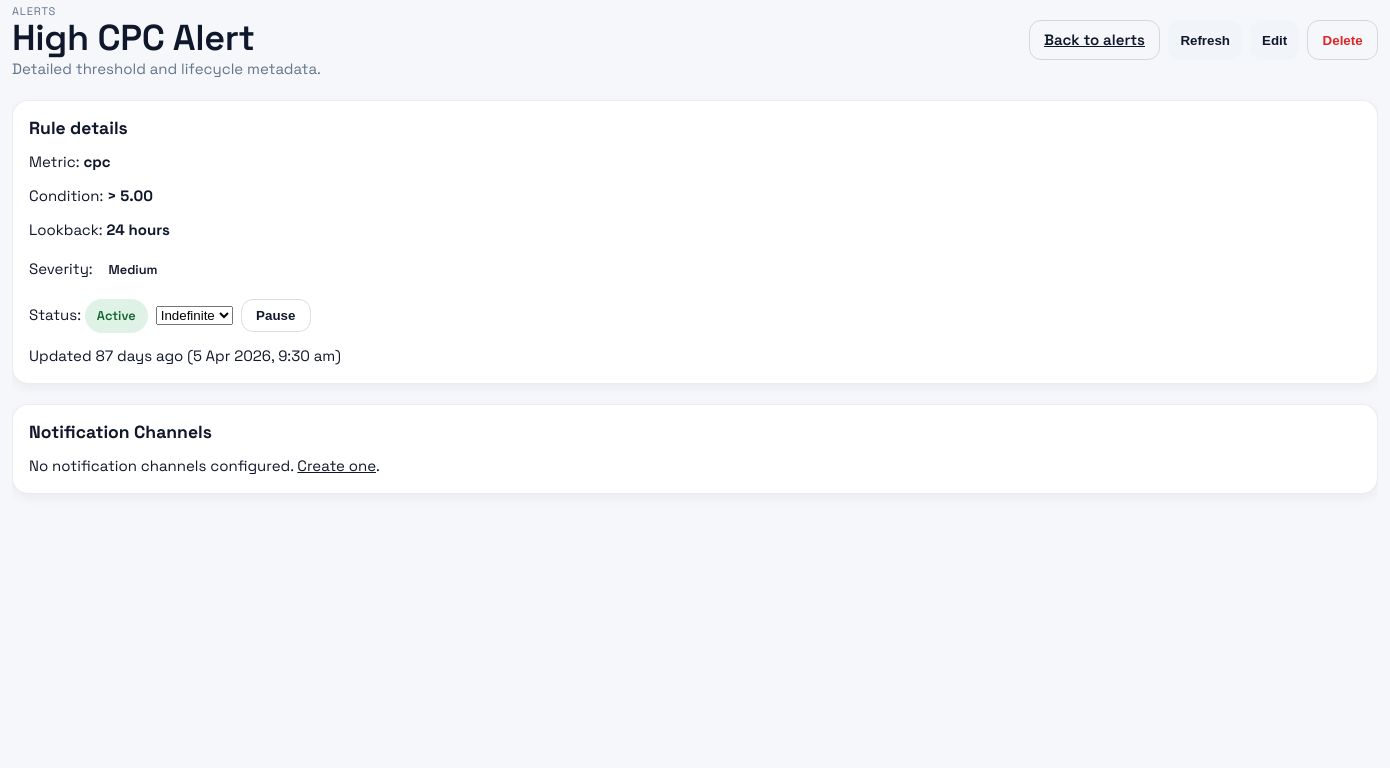
Test case: AlertDetailPage › Cancel in edit form discards changes and does not mutate alert state
This screenshot has width=1390, height=768.
Expected: the heading "High CPC Alert" is shown, [12,15,255,61]
Click the button "Edit" at [1275, 40], box [1250,20,1299,60]
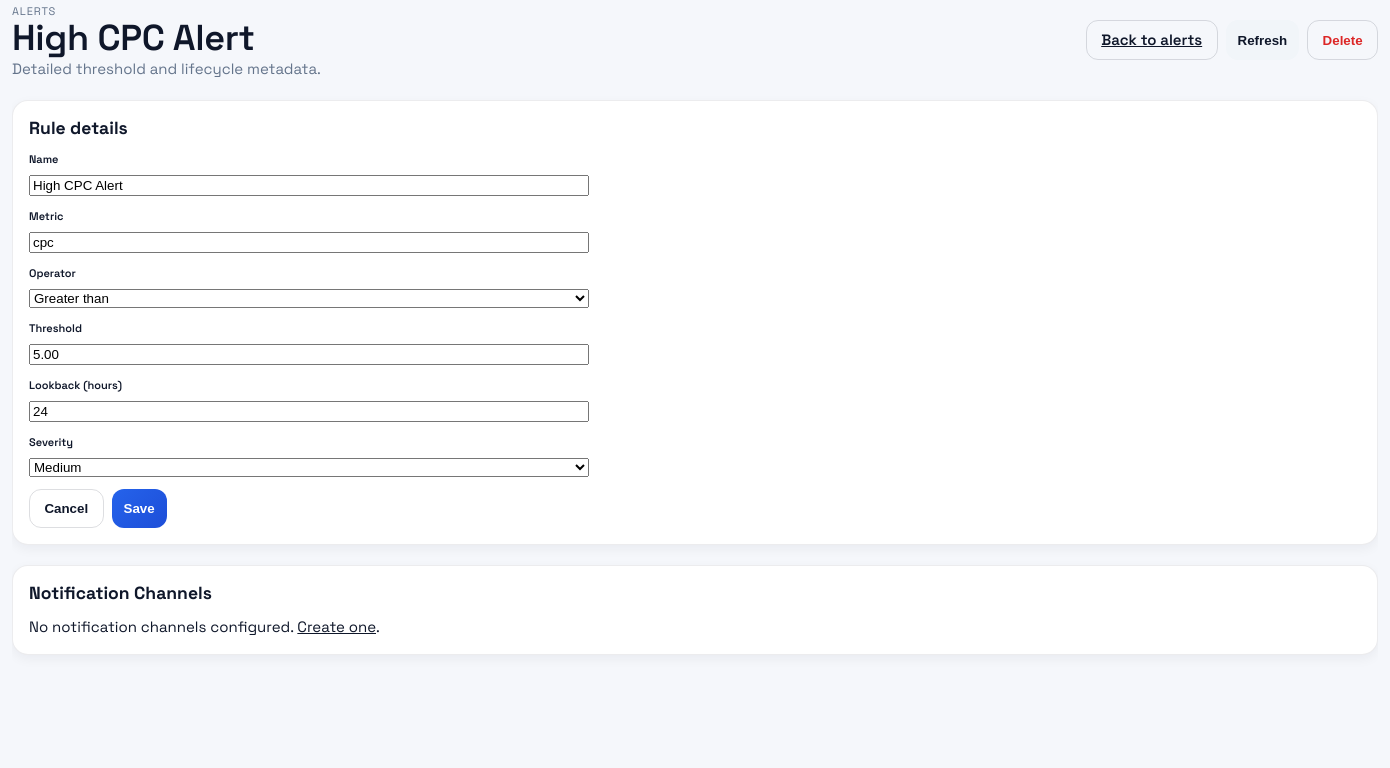
Replace the text in the field labelled "Name" with "Renamed Alert" at [309, 186], box [29,175,589,196]
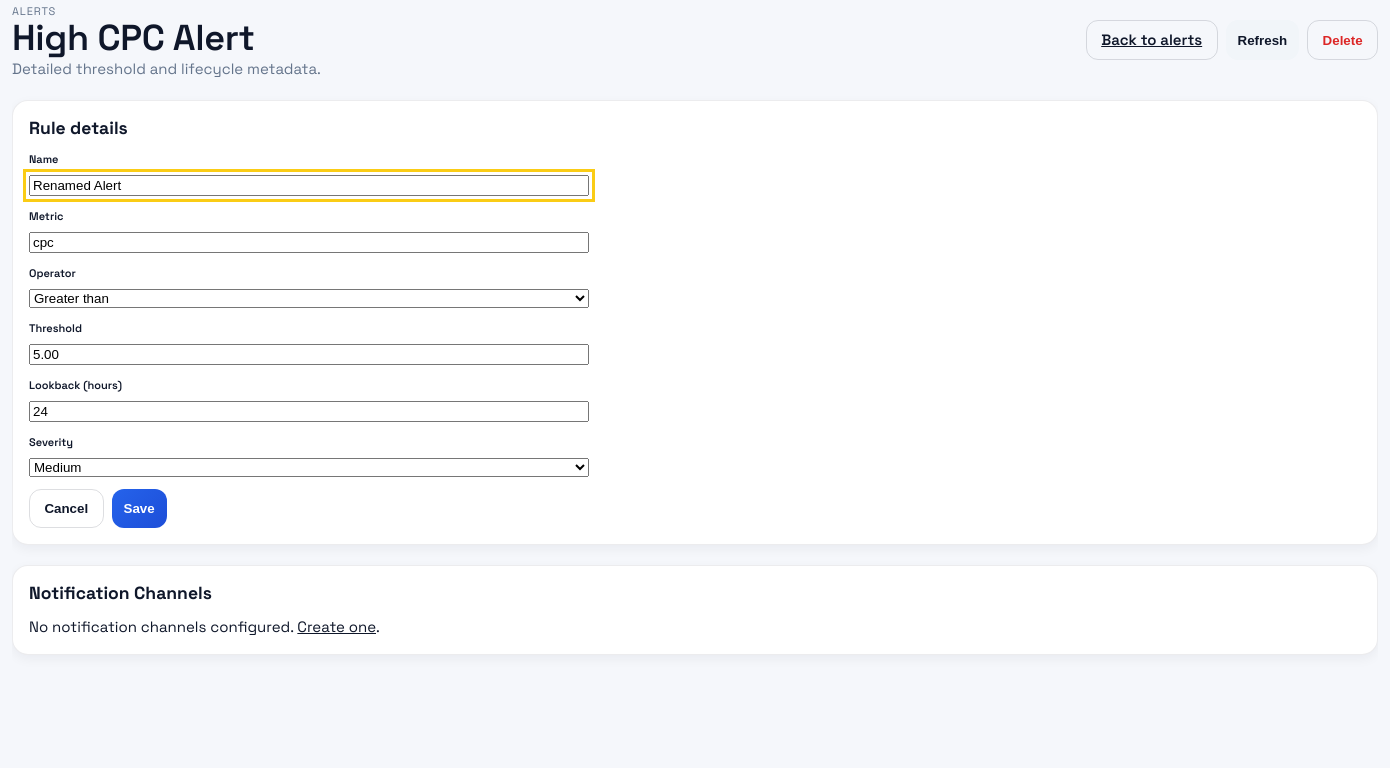
Click the button "Cancel" at [66, 508], box [29,489,104,528]
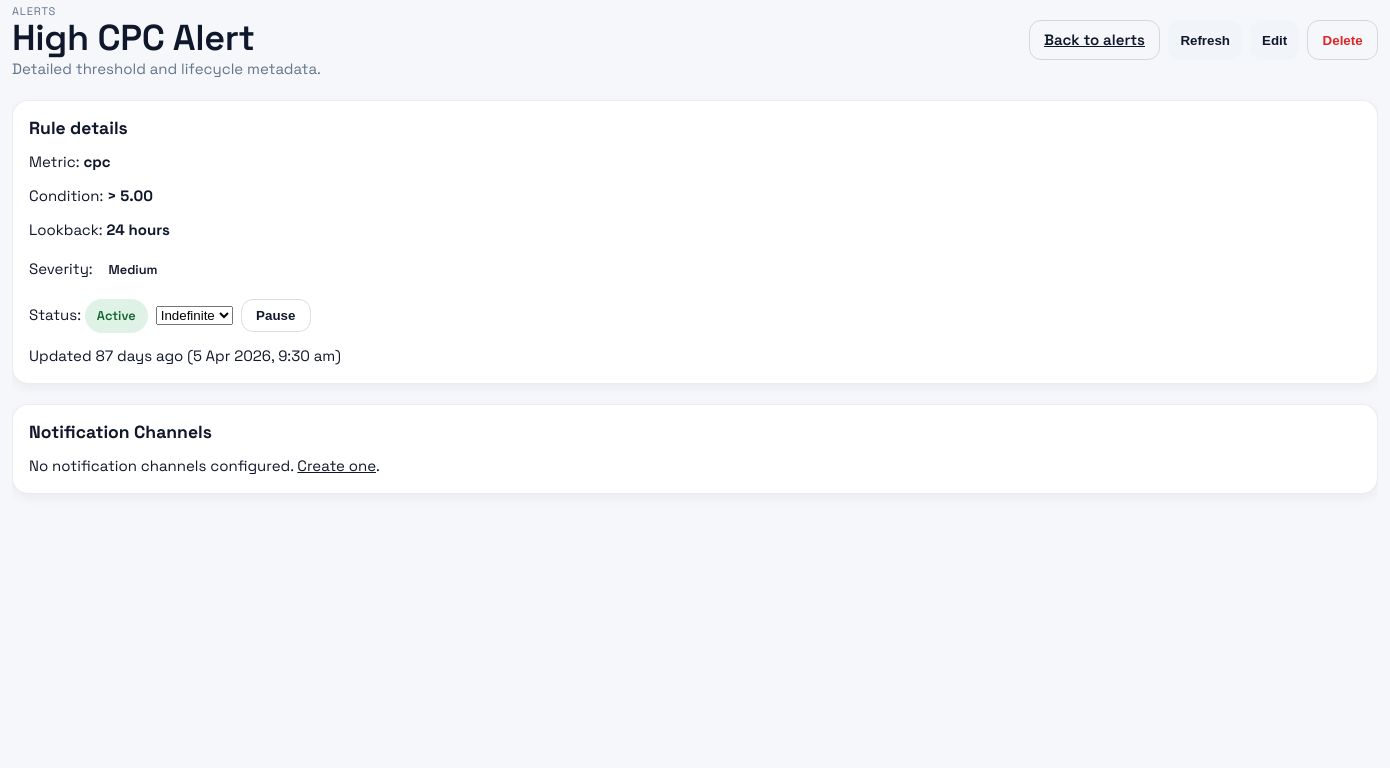
Expected: the heading "High CPC Alert" is shown, [12,15,255,61]
Now the text labelled "Name" is gone
